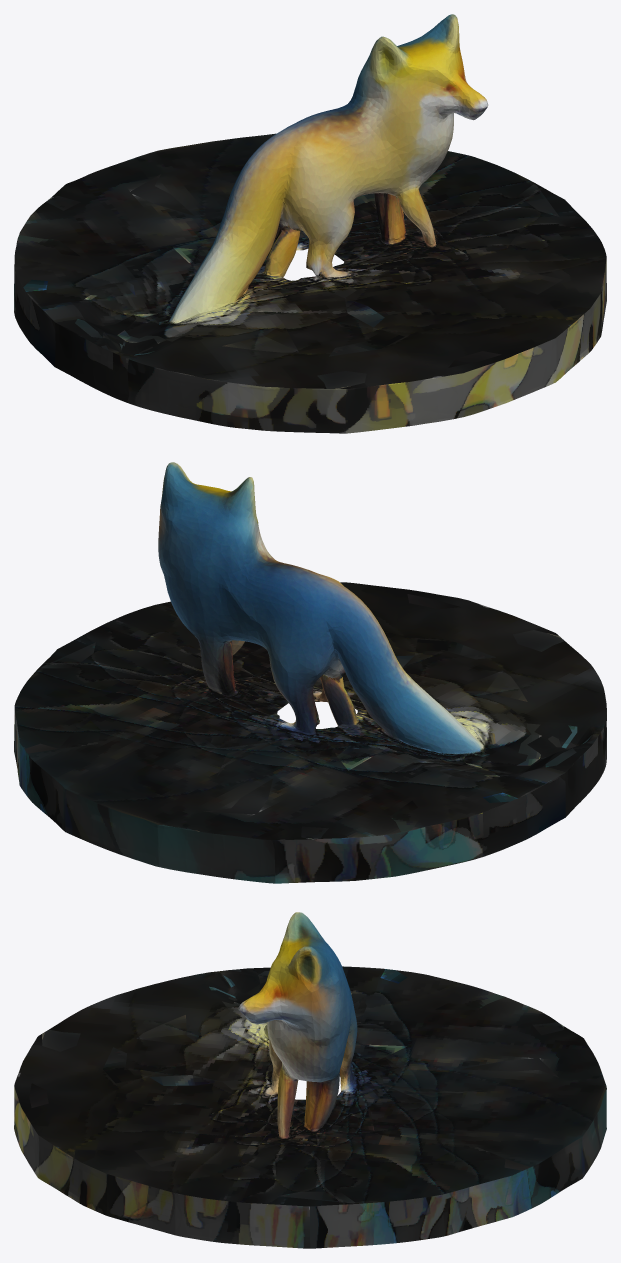
The model's file is trellis_result.glb.
The picture shows the model from 3 angles, top to bottom: view 1: azimuth 30°, elevation 25°; view 2: azimuth 150°, elevation 25°; view 3: azimuth 270°, elevation 25°; orthographic projection. The views are drawn at different scales.
Visible parts, largest first — view 1: world; view 2: world; view 3: world.
Boxes of the visible parts, <box> form: world: <box>14,14,606,433</box>; world: <box>14,462,606,883</box>; world: <box>14,912,606,1248</box>.
Bounding box in the file's own units: 0.9627 × 0.4638 × 1.
Materials: 1 (1 with a texture image).
